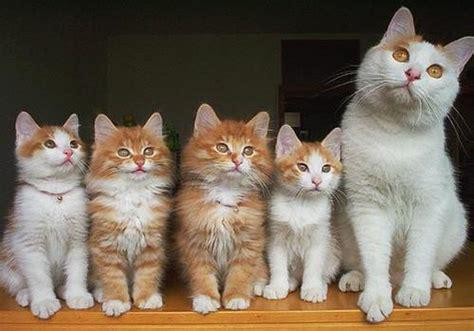cat: (343, 6, 474, 323), (1, 111, 93, 317), (180, 103, 269, 311), (89, 113, 168, 317), (264, 124, 344, 302)
